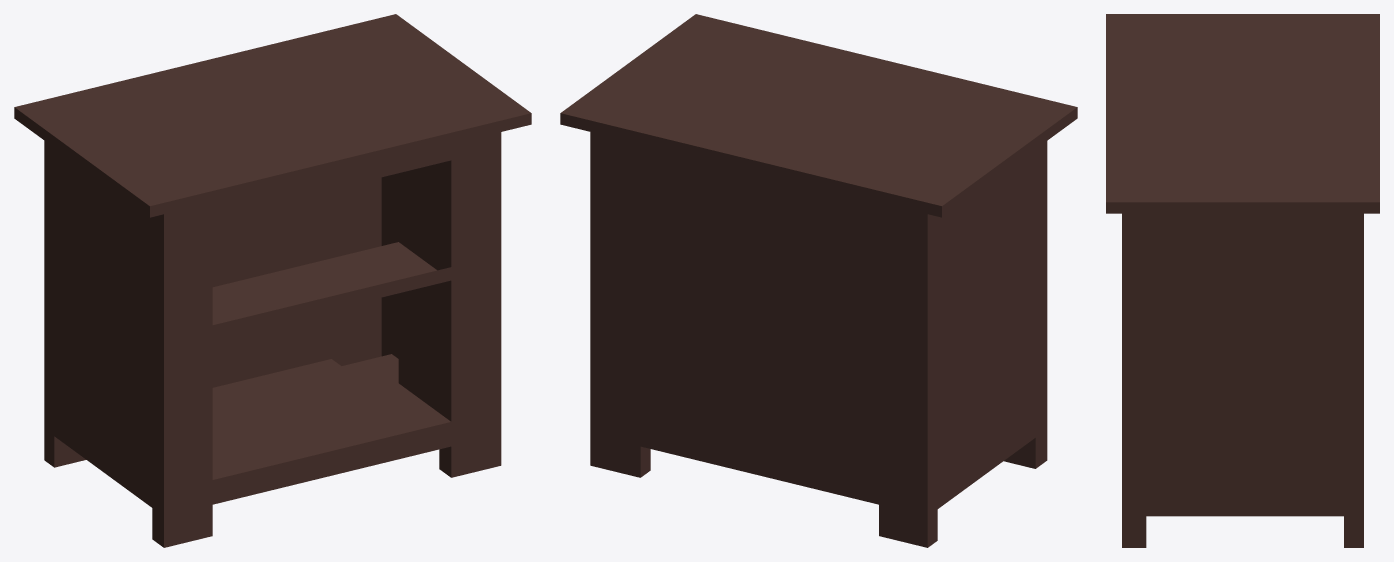
Rendered from CorpoGaveta.fbx.
The picture shows the model from 3 angles, left to right: view 1: azimuth 30°, elevation 25°; view 2: azimuth 150°, elevation 25°; view 3: azimuth 270°, elevation 25°; orthographic projection.
Visible parts, largest first — view 1: gaveteiro base; view 2: gaveteiro base; view 3: gaveteiro base.
Boxes of the visible parts, x1,y1,x2,y2 form: gaveteiro base: (14, 14, 531, 547); gaveteiro base: (560, 14, 1077, 547); gaveteiro base: (1106, 14, 1379, 547).
Size of the model in its own units: 121 by 107 by 74.13.
